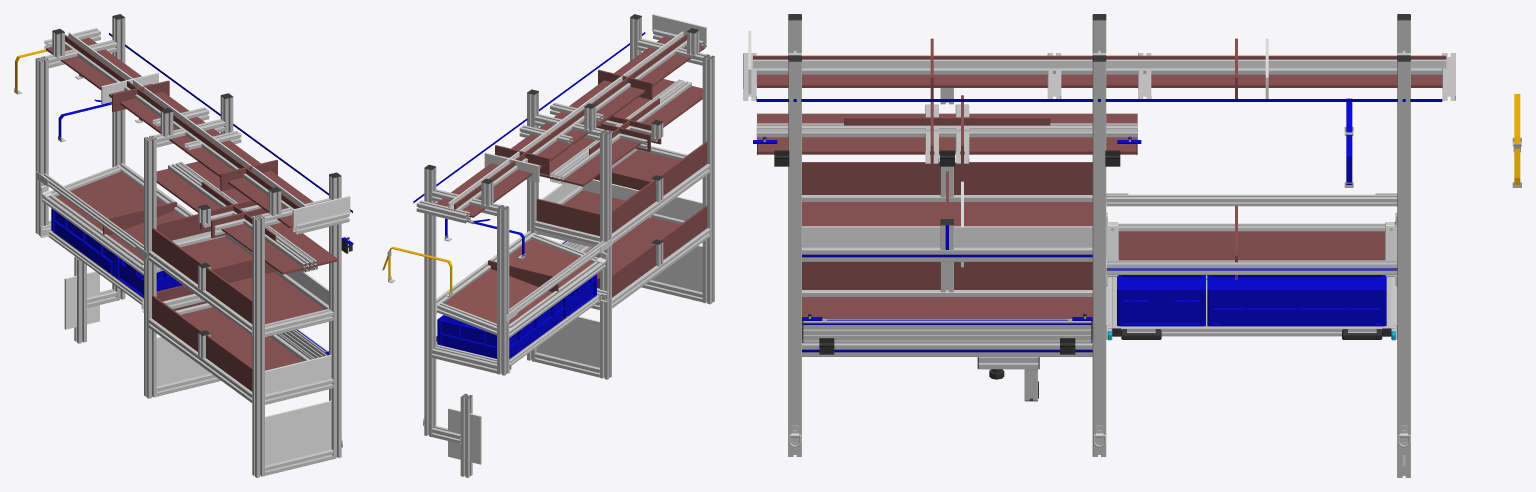
File: vd_test_ducato_01279cf5.glb
3 views of the same model, side by side, from view 1: azimuth 30°, elevation 25°; view 2: azimuth 150°, elevation 25°; view 3: azimuth 270°, elevation 25° (orthographic). The views are drawn at different scales.
Visible parts, largest first — view 1: PR10_1266x395, PR10_966x395, 45x45x1330_noha.001, CUB10_395x260.001, PR10_908x388, 45x45x1450_noha.002, 45x45x1330_noha, PR10_966x395.001, blue klt.002, PR10_1266x306, 45x45x900_noha, PR10_1266x306.001 (+49 smaller); view 2: PR10_908x388, blue klt.002, 45x45x1450_noha, PR10_1266x395, 45x45x1330_noha.001, 45x45x1330_noha, 45x45x900_noha, PR10_1266x306, CUB10_395x260, PR10_1266x306.001, PR10_966x395, PR10_966x395.001 (+46 smaller); view 3: blue klt.002, PR10_1266x395, PR10_908x388, PR10_966x395, 80x20x958, PR10_966x395.001, 45x45x1450_noha.001, 45x45x1450_noha, 45x45x1450_noha.002, PR10_1266x306, PR10_485x130, PR10_485x130_2 (+28 smaller).
Part boxes in pixels (<box>): PR10_1266x395: <box>156,161,338,274</box>; PR10_966x395: <box>181,236,324,324</box>; 45x45x1330_noha.001: <box>252,215,264,477</box>; CUB10_395x260.001: <box>265,400,331,465</box>; PR10_908x388: <box>55,171,182,261</box>; 45x45x1450_noha.002: <box>329,175,341,459</box>; 45x45x1330_noha: <box>144,135,156,398</box>; PR10_966x395.001: <box>181,307,303,370</box>; blue klt.002: <box>51,208,182,297</box>; PR10_1266x306: <box>46,37,221,148</box>; 45x45x900_noha: <box>35,56,48,235</box>; PR10_1266x306.001: <box>181,140,313,228</box>; PR10_908x388: <box>444,239,592,324</box>; blue klt.002: <box>437,274,596,358</box>; 45x45x1450_noha: <box>424,167,436,437</box>; PR10_1266x395: <box>539,79,702,186</box>; 45x45x1330_noha.001: <box>702,54,714,304</box>; 45x45x1330_noha: <box>600,129,611,379</box>; 45x45x900_noha: <box>497,205,509,375</box>; PR10_1266x306: <box>436,112,601,217</box>; CUB10_395x260: <box>536,316,599,367</box>; PR10_1266x306.001: <box>569,36,704,137</box>; PR10_966x395: <box>563,150,679,213</box>; PR10_966x395.001: <box>585,217,679,277</box>; blue klt.002: <box>1117,275,1386,326</box>; PR10_1266x395: <box>757,113,1137,154</box>; PR10_908x388: <box>1118,231,1384,260</box>; PR10_966x395: <box>802,202,1092,226</box>; 80x20x958: <box>803,319,1091,343</box>; PR10_966x395.001: <box>802,297,1092,338</box>; 45x45x1450_noha.001: <box>1092,61,1106,456</box>; 45x45x1450_noha: <box>1397,61,1410,456</box>; 45x45x1450_noha.002: <box>788,61,801,456</box>; PR10_1266x306: <box>1061,74,1442,87</box>; PR10_485x130: <box>802,162,940,194</box>; PR10_485x130_2: <box>954,162,1092,194</box>.
Size of the model in its own units: 0.4914 by 1.63 by 2.59.
